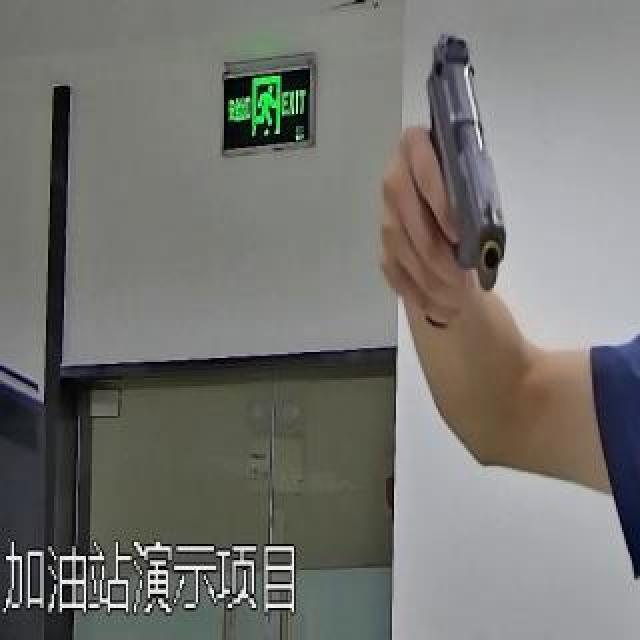Guns: (384, 0, 528, 326)
